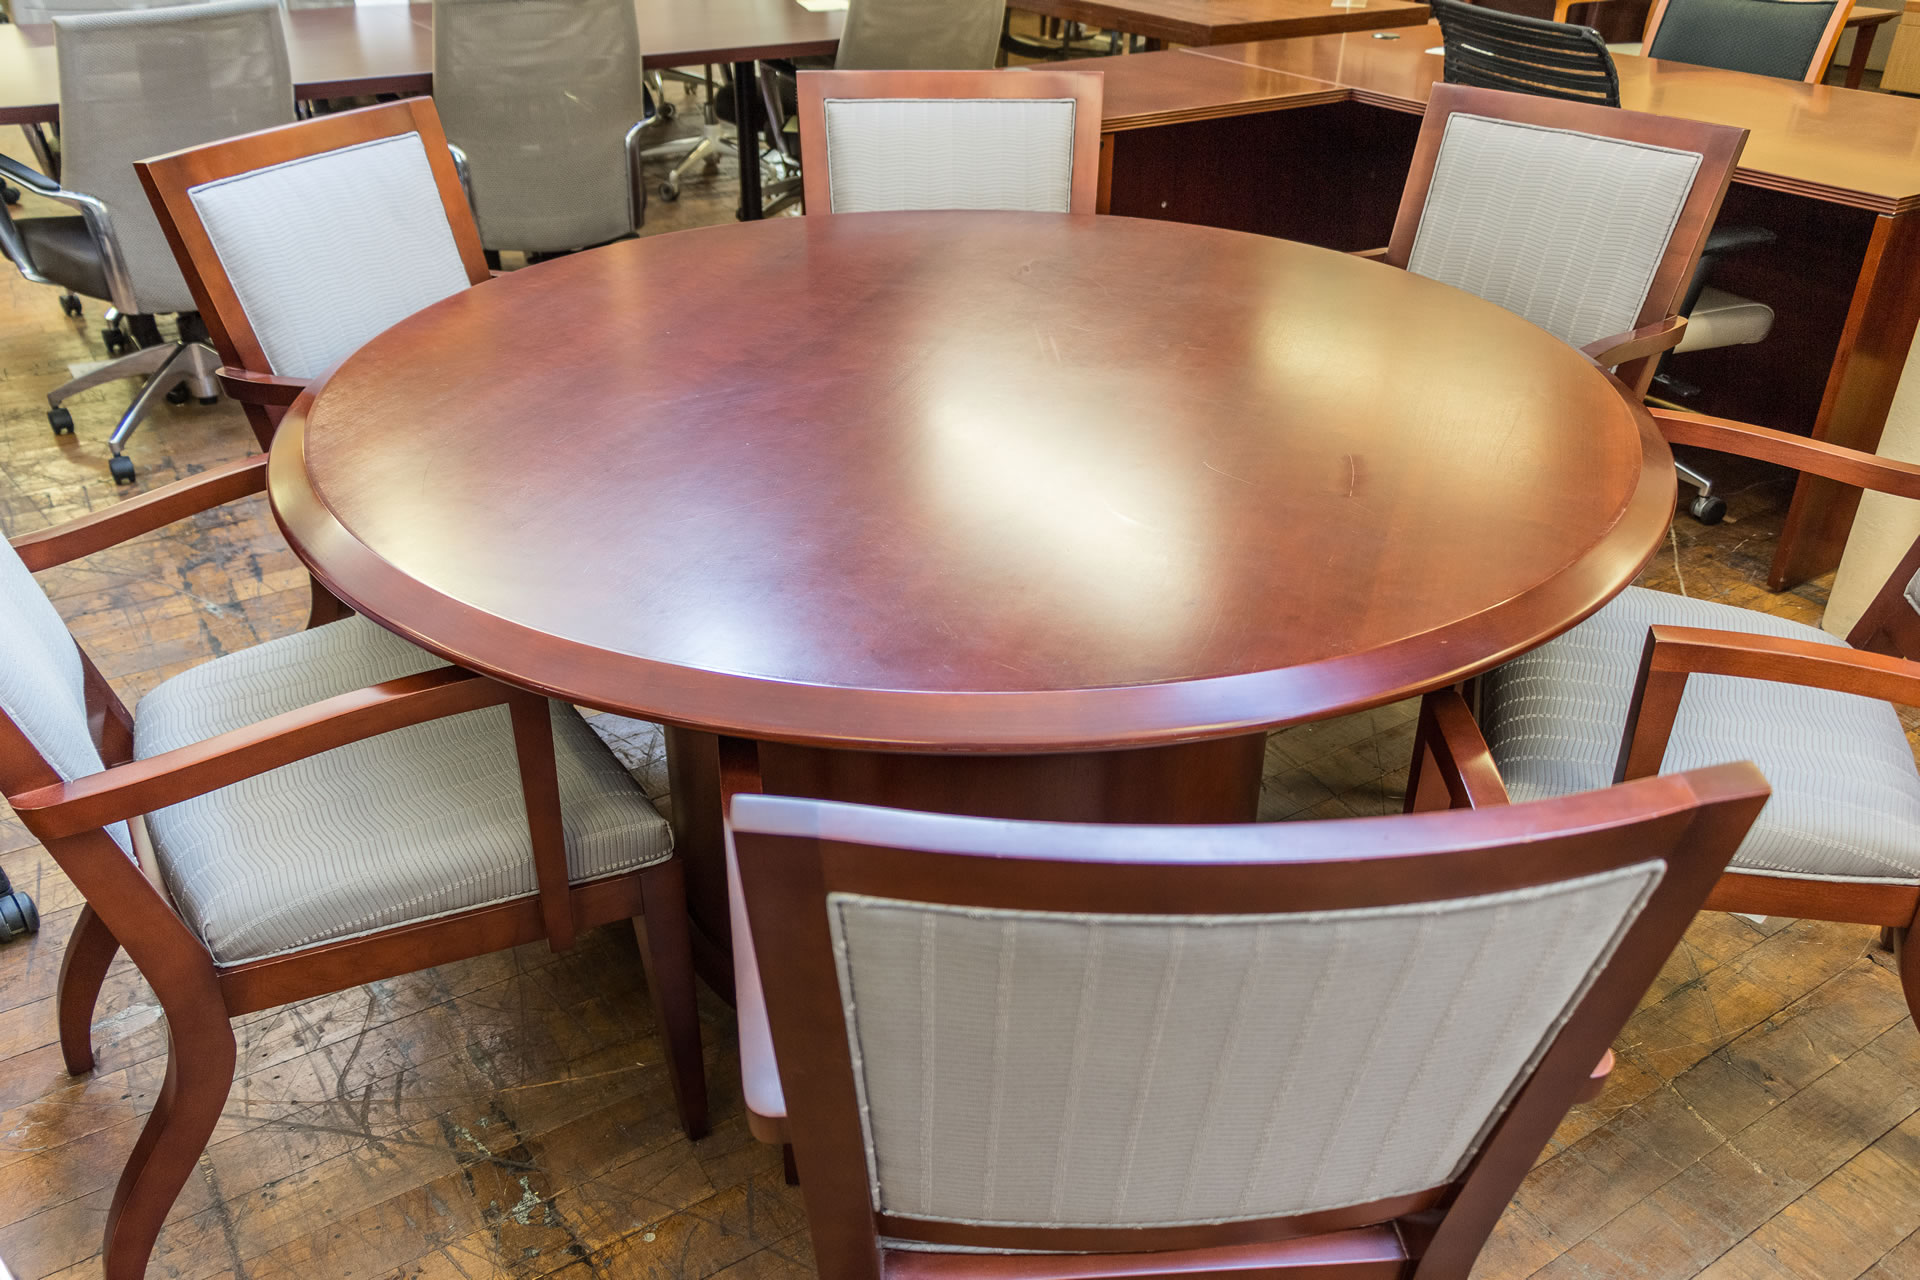conference_table: (268, 211, 1678, 755), (4, 1, 825, 220), (952, 24, 1920, 209), (1037, 4, 1444, 45)
